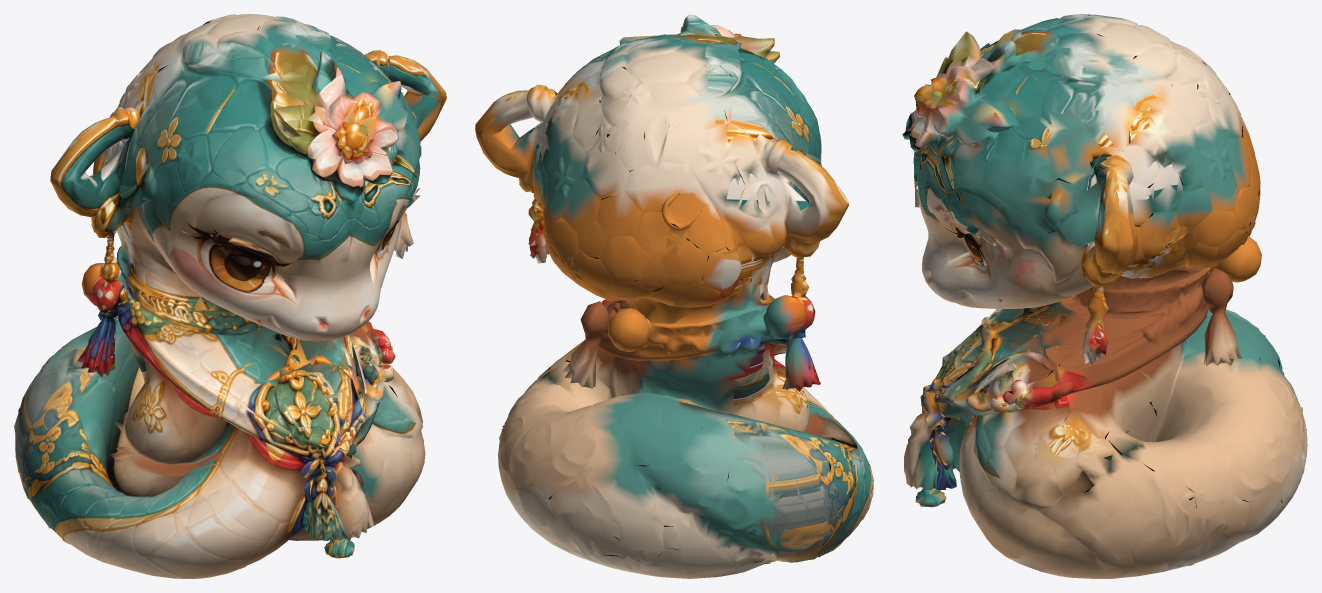
File: original.glb
3 renders of one model, left to right at view 1: azimuth 30°, elevation 25°; view 2: azimuth 150°, elevation 25°; view 3: azimuth 270°, elevation 25°, orthographic. The views are drawn at different scales.
Parts seen in each view (by area): view 1: Body; view 2: Body; view 3: Body.
Part boxes in pixels (bbox=[...]): Body: bbox=[14, 14, 446, 578]; Body: bbox=[475, 14, 873, 578]; Body: bbox=[902, 14, 1307, 578].
Bounding box in the file's own units: 0.8425 × 1 × 0.7288.
2 materials, 2 textured.
